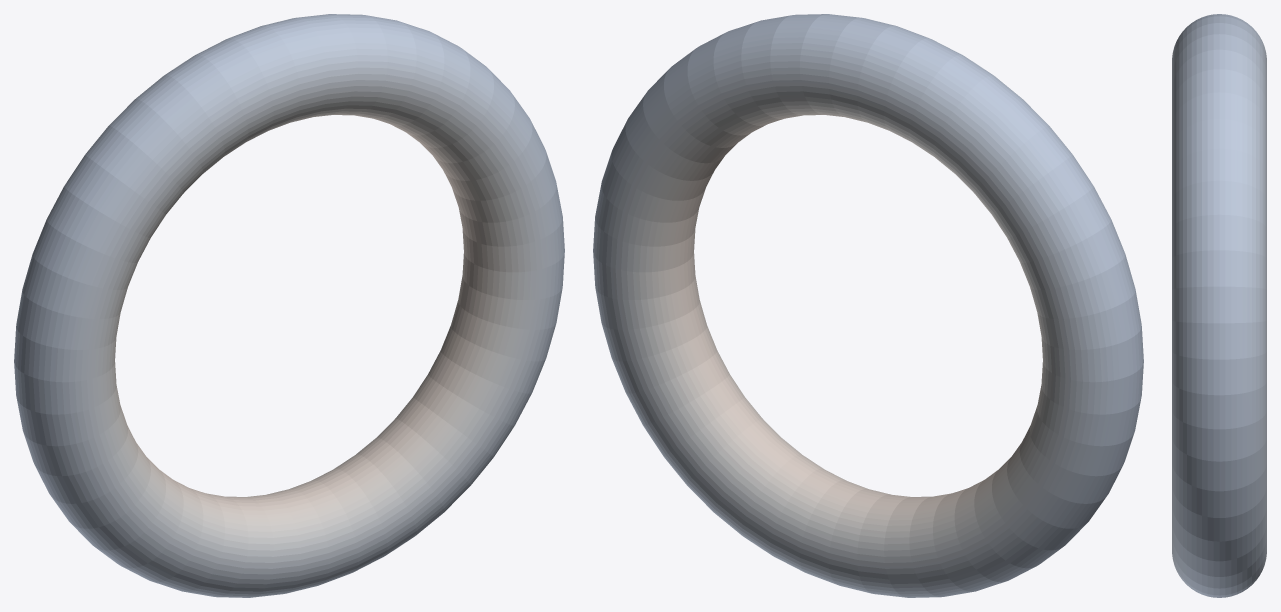
3 views of the same model, side by side, from view 1: azimuth 30°, elevation 25°; view 2: azimuth 150°, elevation 25°; view 3: azimuth 270°, elevation 25° (orthographic). The views are drawn at different scales.
Visible parts, largest first — view 1: world; view 2: world; view 3: world.
Boxes of the visible parts, x1,y1,x2,y2 form: world: [14, 14, 564, 597]; world: [593, 14, 1143, 597]; world: [1172, 14, 1266, 597].
Bounding box in the file's own units: 28.67 × 28.61 × 4.66.
